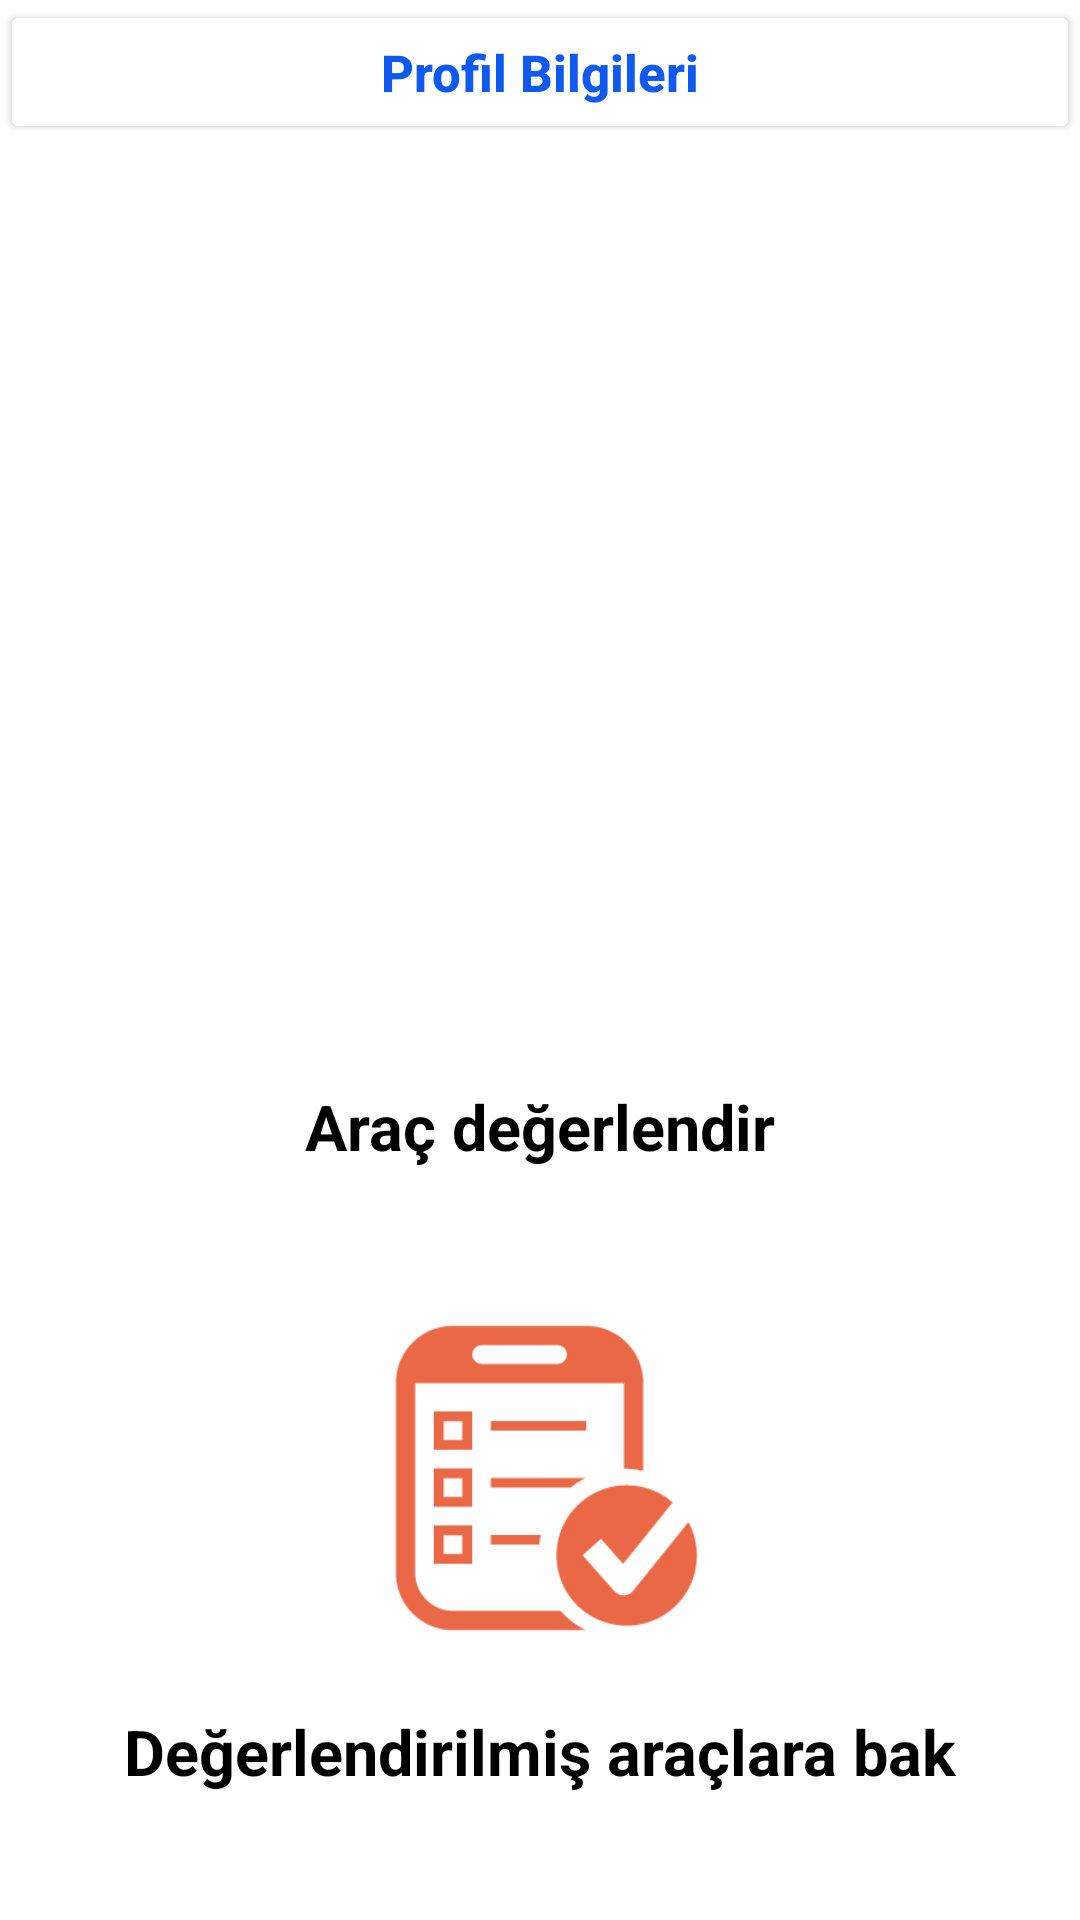

Icon bounding boxes for this 1080×1920 phone screenshot, format [x1=x1, y1=y1, x2=x2, y2=y2]:
digeranket: [x1=395, y1=1325, x2=698, y2=1631]
